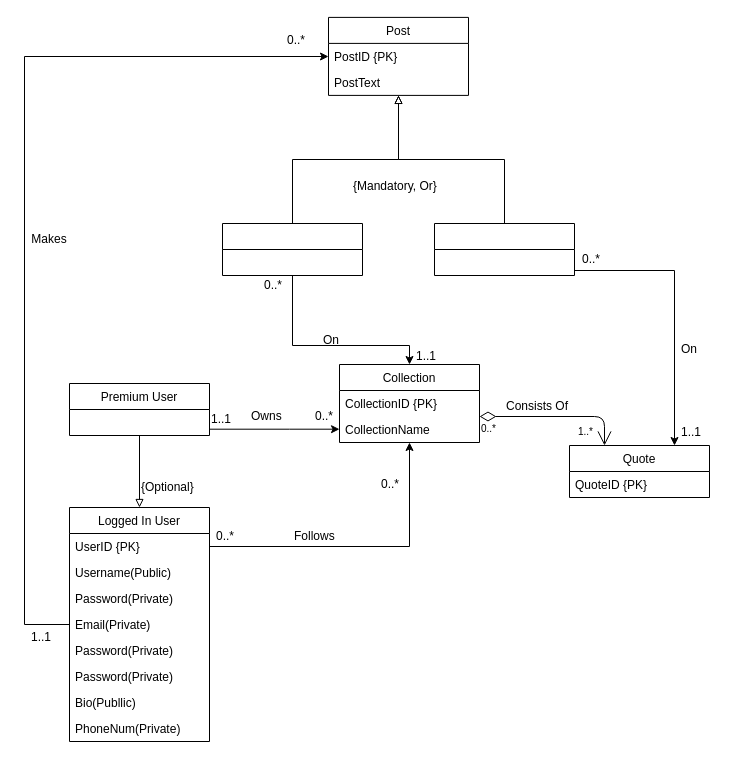
Image size: 737x762. Some labels were removed from this diagram. Each missing label, with the centre of its shape:
"CollectionPost" belongs at pixel 292 249.
"QuotePost" belongs at pixel 504 249.
